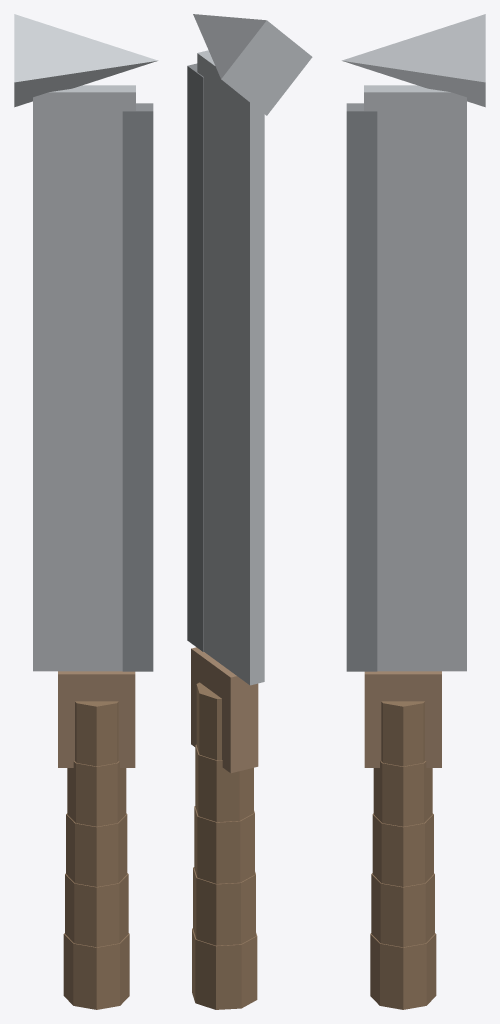
The model's file is machete.glb.
3 views of the same model, side by side, from view 1: azimuth 90°, elevation 25°; view 2: azimuth 210°, elevation 25°; view 3: azimuth 270°, elevation 25° (orthographic). The views are drawn at different scales.
Visible parts, largest first — view 1: machete; view 2: machete; view 3: machete.
Part boxes in pixels (box(x1,y1,x2,y2)): machete: box(14, 14, 157, 1009); machete: box(187, 14, 312, 1009); machete: box(342, 14, 485, 1009).
Size of the model in its own units: 0.1 by 1.05 by 0.14.
